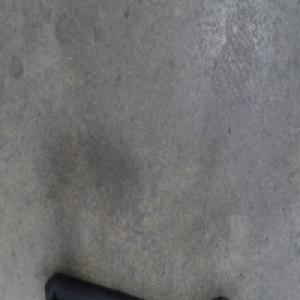AdjustableWrench: (45, 271, 144, 299)
